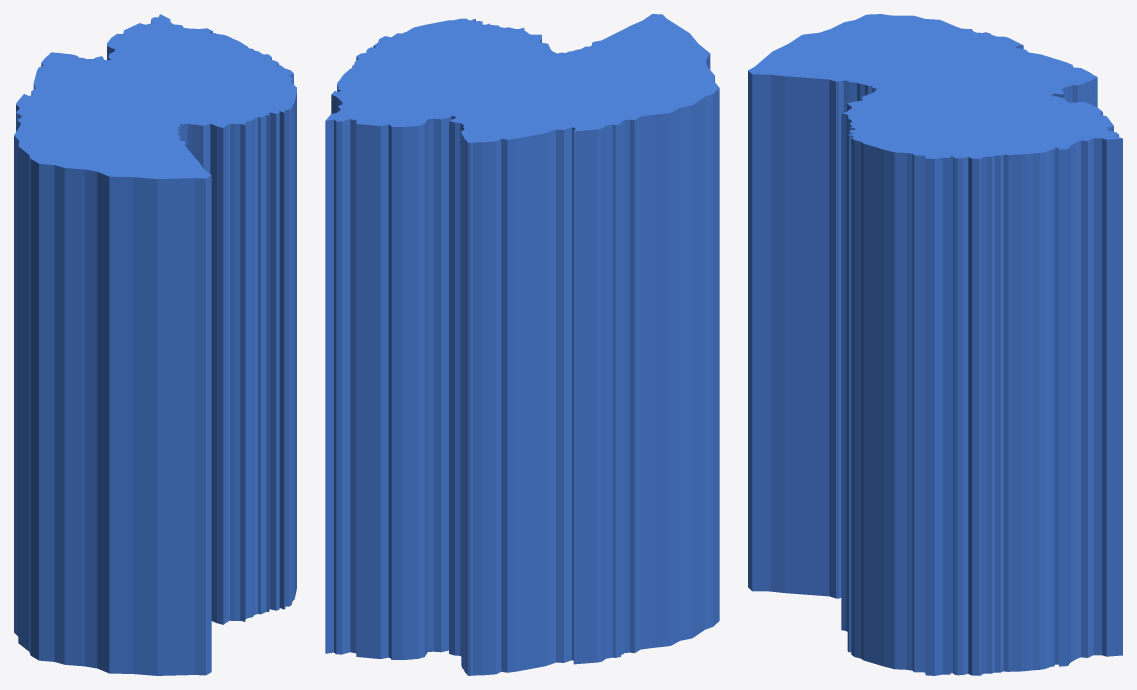
The model's file is FrozenLake01_noscale.dae.
The picture shows the model from 3 angles, left to right: view 1: azimuth 30°, elevation 25°; view 2: azimuth 150°, elevation 25°; view 3: azimuth 270°, elevation 25°; orthographic projection. The views are drawn at different scales.
Parts seen in each view (by area): view 1: Object_001; view 2: Object_001; view 3: Object_001.
Part boxes in pixels (box(x1,y1,x2,y2)): Object_001: box(14, 14, 296, 675); Object_001: box(325, 14, 719, 675); Object_001: box(748, 14, 1122, 675).
Bounding box in the file's own units: 108 × 118 × 180.
